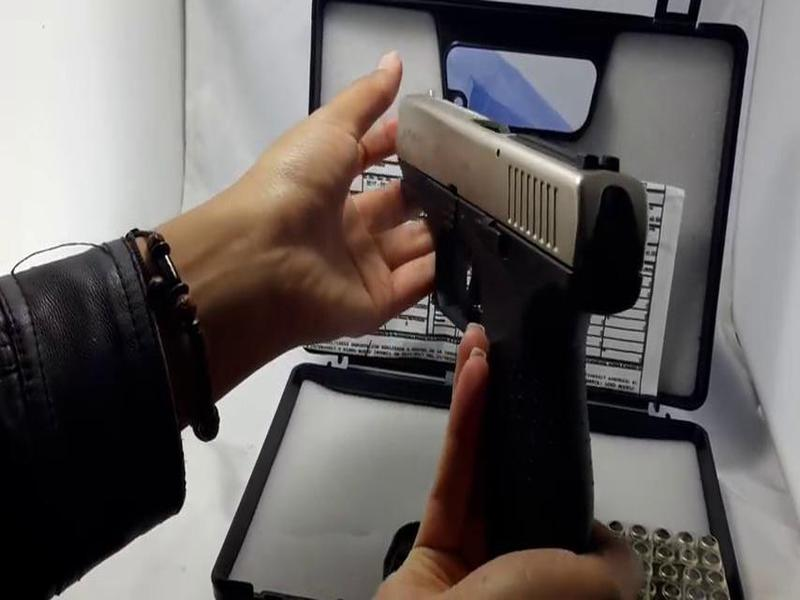Pistola: (318, 65, 675, 590)
